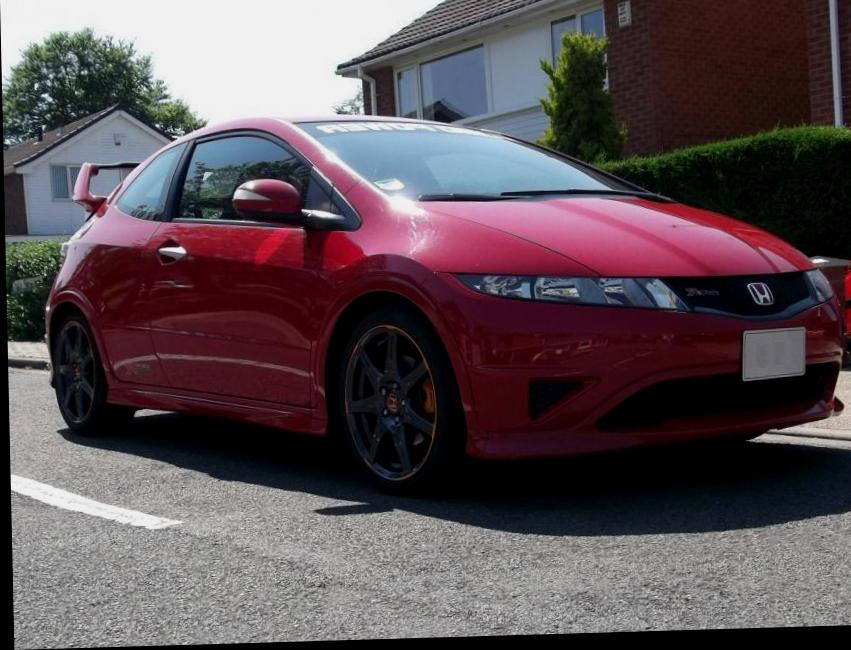License_Plate: (736, 321, 811, 385)
